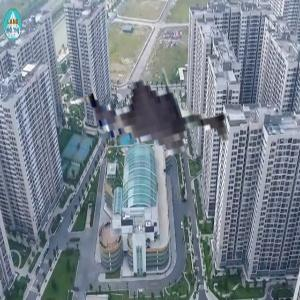drone: (57, 35, 277, 255)
